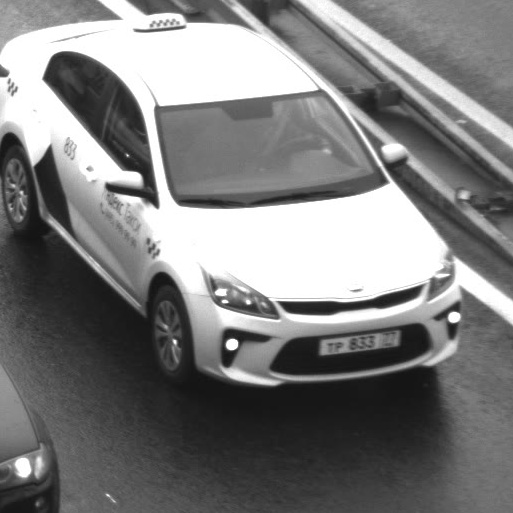plate: (307, 318, 406, 363)
